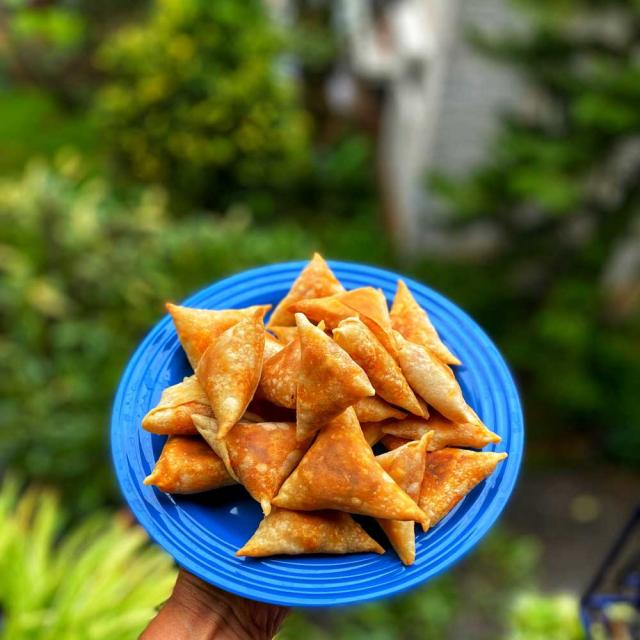SAMOSA: (266, 405, 425, 511), (295, 307, 368, 438), (196, 305, 266, 439), (420, 445, 506, 524), (266, 250, 350, 326), (235, 514, 382, 556)
